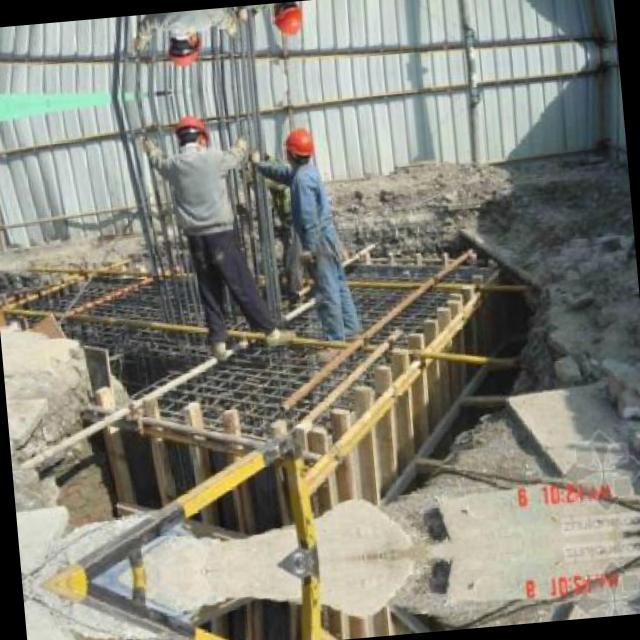helmet: (280, 121, 316, 167), (170, 110, 210, 150), (164, 31, 204, 71), (270, 0, 306, 43)
